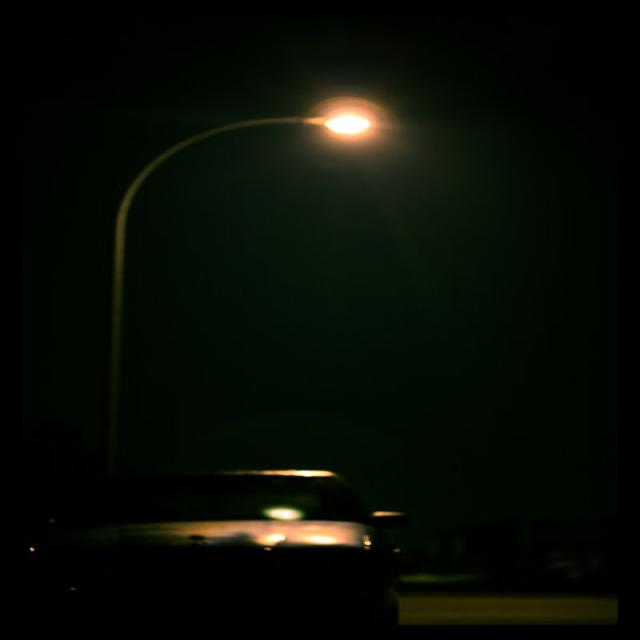Car: (28, 466, 416, 640)
